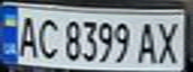3: (78, 17, 100, 63)
8: (60, 17, 81, 62)
9: (112, 19, 136, 64), (96, 18, 115, 63)
A: (12, 12, 42, 59), (136, 19, 160, 65)
C: (33, 15, 60, 61)
X: (154, 17, 184, 65)
